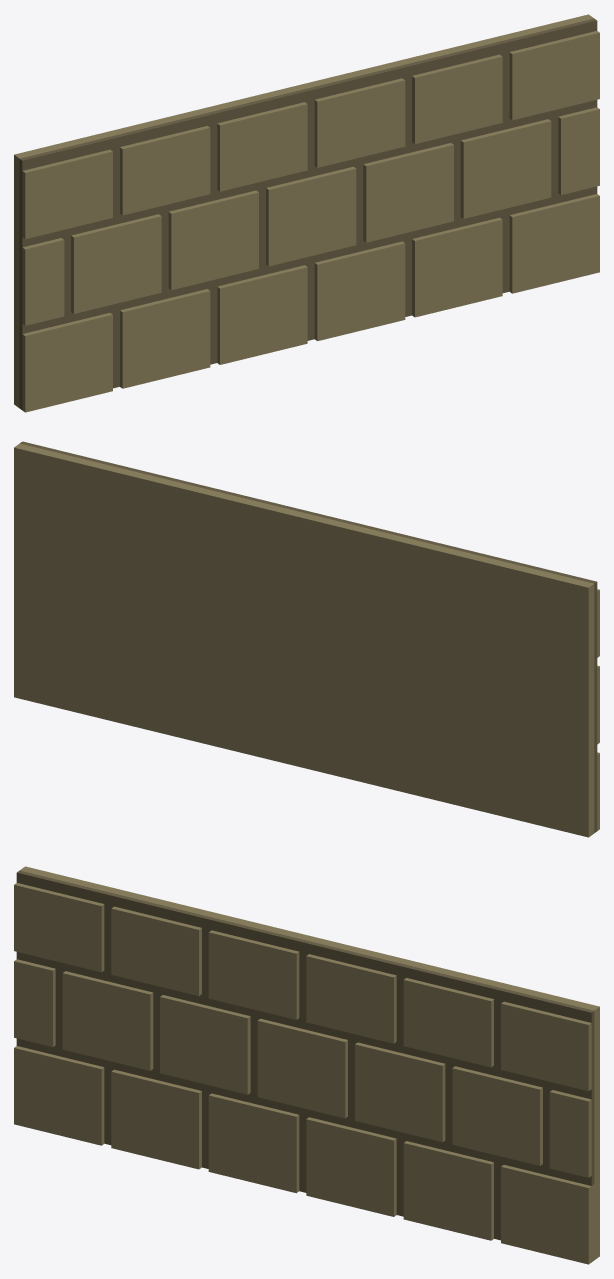
Rendered from Wall2.obj.
The picture shows the model from 3 angles, top to bottom: view 1: azimuth 30°, elevation 25°; view 2: azimuth 150°, elevation 25°; view 3: azimuth 330°, elevation 25°; orthographic projection.
Bounding box in the file's own units: 11.8 × 4.9 × 0.4.
1 material, 1 textured.
